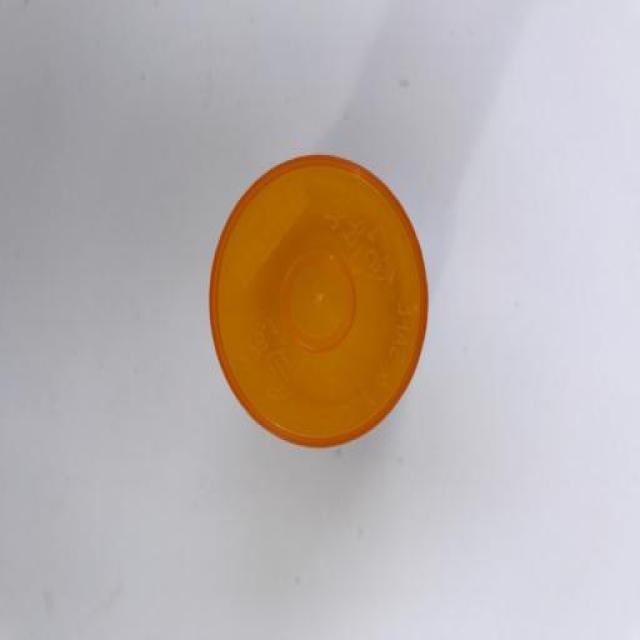Plastic: (209, 157, 429, 450)
